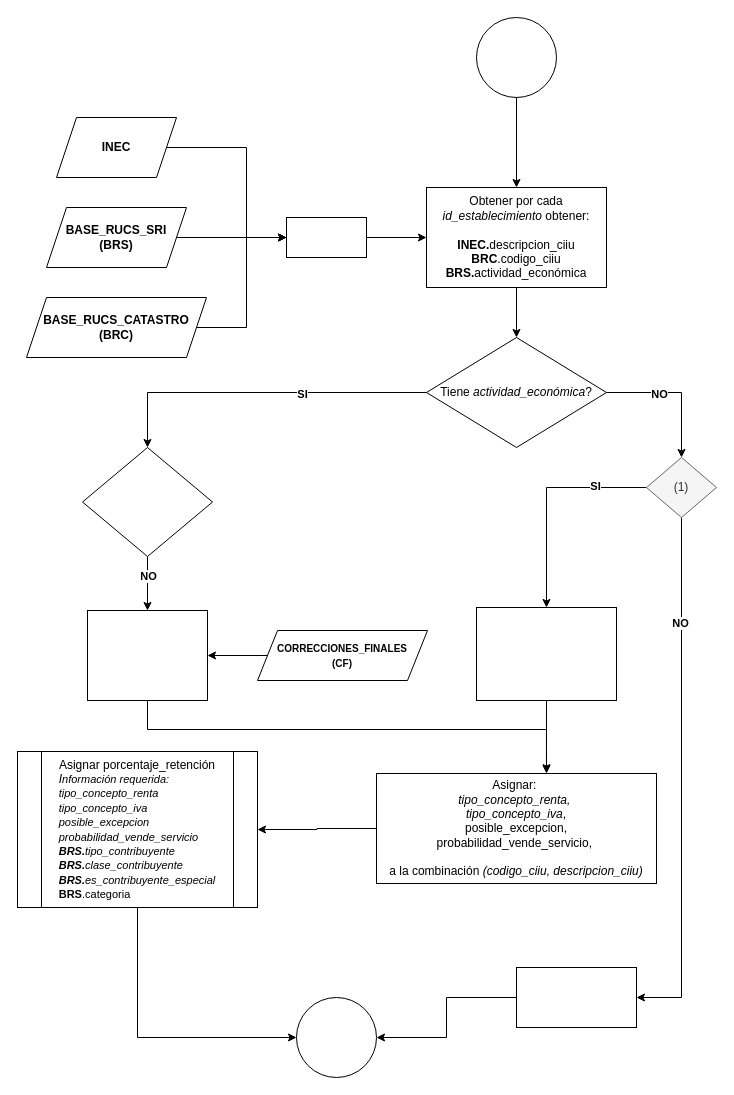
The diagram is 734 pixels wide and 1095 high, and some of its shapes have lost their labels. The shapes that lost their labels are listed below. From the top down, each one's centre as x and y in pixels, then its label:
At point 326,237: "Limpiar".
At point 147,501: "Tiene codigo_ciiu ? (1)".
At point 147,655: "Asignar codigo_ciiu usando IA desde la actividad_económica".
At point 546,653: "Asignar a la actividad_economica como descripcion_ciiu".
At point 576,997: "No asignar porcentaje de retención alguno".
